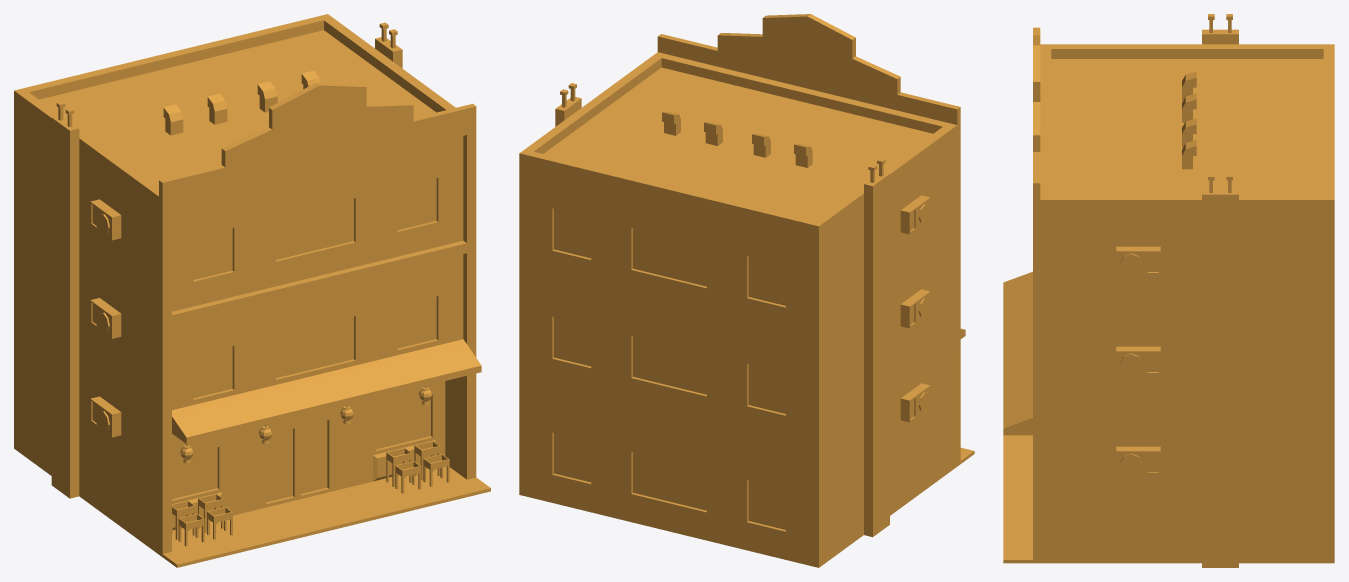
The model's file is building-market-china.glb.
3 renders of one model, left to right at view 1: azimuth 30°, elevation 25°; view 2: azimuth 150°, elevation 25°; view 3: azimuth 270°, elevation 25°, orthographic. The views are drawn at different scales.
Visible parts, largest first — view 1: building-market-china; view 2: building-market-china; view 3: building-market-china.
Part boxes in pixels (bbox=[...]): building-market-china: bbox=[14, 14, 490, 567]; building-market-china: bbox=[519, 14, 974, 567]; building-market-china: bbox=[1003, 14, 1334, 567].
Size of the model in its own units: 10.7 by 13.2 by 9.
